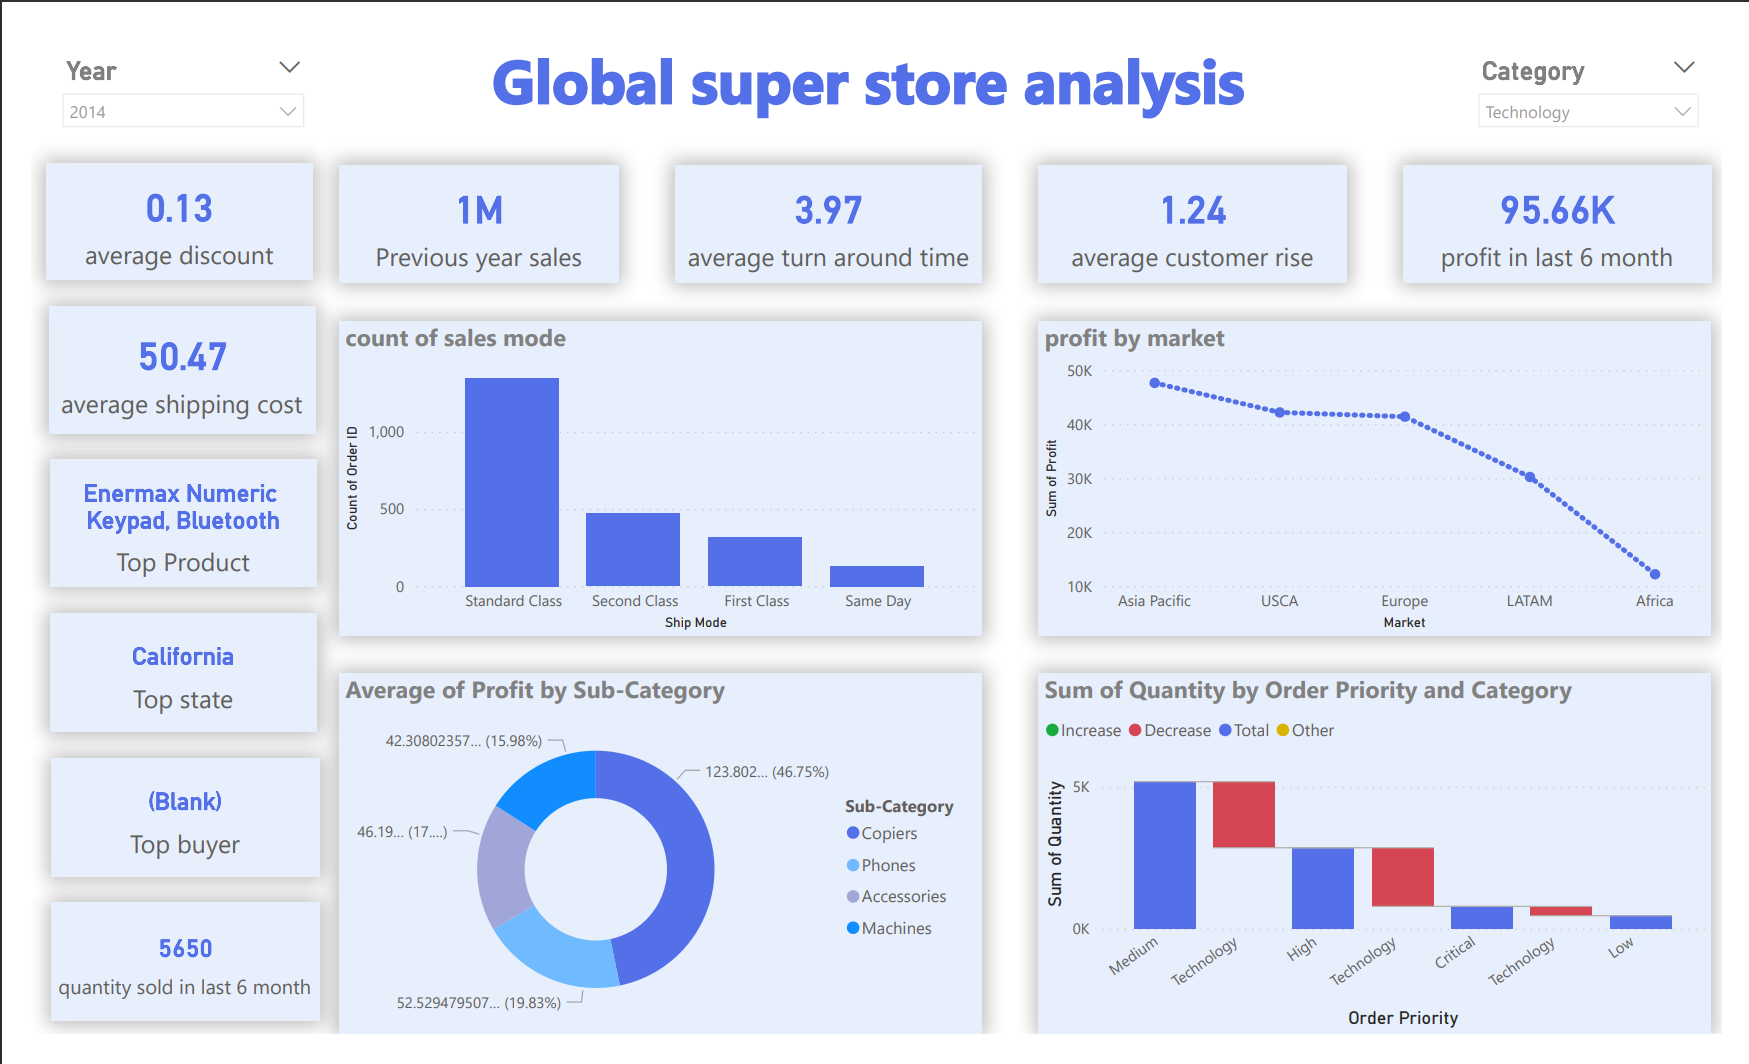

This screenshot's page, from the dashboard's own definition file:
{"tool":"powerbi","page":{"name":"ADVANCED","canvas":[1350,800],"ordinal":1},"visuals":[{"type":"card","fields":{"Values":["Orders.Previous year sales"]},"box":[245.8,105.9,222.8,93.7],"z":0,"group":"g1"},{"type":"slicer","fields":{"Values":["Orders.Order Date.Variation.Date Hierarchy.Year"]},"box":[14.9,13.6,213.2,74.7],"z":0},{"type":"card","fields":{"Values":["Orders.average turn around time"]},"box":[513.4,105.9,245.8,93.7],"z":1000,"group":"g1"},{"type":"textbox","box":[363.3,0,623.4,77.4],"z":1000},{"type":"card","fields":{"Values":["Orders.average customer rise"]},"box":[804,105.9,245.8,93.7],"z":2000,"group":"g1"},{"type":"card","fields":{"Values":["Orders.average discount"]},"box":[12.2,104.6,213.2,93.7],"z":2000},{"type":"card","fields":{"Values":["Orders.profit in last 6 month"]},"box":[1094.7,105.9,245.8,93.7],"z":3000,"group":"g1"},{"type":"group","id":"g1","title":"Group 1","box":[245.8,105.9,1094.7,93.7],"z":3000},{"type":"lineClusteredColumnComboChart","title":"count of sales mode","fields":{"Category":["Orders.Ship Mode"],"Y":["Count(Orders.Order ID)"]},"box":[245.8,230.9,513.4,251.3],"z":4000},{"type":"lineChart","title":"profit by market","fields":{"Category":["Orders.Market"],"Y":["Sum(Orders.Profit)"]},"box":[804.1,230.9,536.5,251.3],"z":5000},{"type":"slicer","fields":{"Values":["Orders.Category"]},"box":[1145,13.6,195.6,74.7],"z":6000},{"type":"card","fields":{"Values":["Orders.average shipping cost"]},"box":[13.6,218.9,213.2,101.9],"z":7000},{"type":"card","fields":{"Values":["Orders.Top Product"]},"box":[14.9,341.5,213.2,101.9],"z":8000},{"type":"card","fields":{"Values":["Orders.Top customer"]},"box":[14.9,464,213.2,95.1],"z":9000},{"type":"donutChart","fields":{"Category":["Orders.Sub-Category"],"Y":["Avg(Orders.Profit)"]},"box":[245.8,512.1,513.4,278.4],"z":10000},{"type":"card","fields":{"Values":["Orders.Top buyer"]},"box":[16.3,579.7,213.2,95.1],"z":11000},{"type":"waterfallChart","fields":{"Category":["Orders.Order Priority"],"Breakdown":["Orders.Category"],"Y":["Sum(Orders.Sales)"]},"box":[804.1,512.1,536.5,278.4],"z":12000},{"type":"card","fields":{"Values":["Orders.q sold in last 6 month"]},"box":[16.3,695.4,213.2,95.1],"z":13000}]}

Visuals, with their boxes in screenshot pixels (x1, y1, x2, y2), scaled from the page's 1350x800 canvas onto the 1749x1064 screenshot:
card - Orders.Previous year sales: <region>318, 141, 607, 265</region>
slicer - Orders.Order Date.Variation.Date Hierarchy.Year: <region>19, 18, 296, 117</region>
card - Orders.average turn around time: <region>665, 141, 984, 265</region>
textbox: <region>471, 0, 1278, 103</region>
card - Orders.average customer rise: <region>1042, 141, 1360, 265</region>
card - Orders.average discount: <region>16, 139, 292, 264</region>
card - Orders.profit in last 6 month: <region>1418, 141, 1737, 265</region>
"Group 1" group: <region>318, 141, 1737, 265</region>
"count of sales mode" lineClusteredColumnComboChart: <region>318, 307, 984, 641</region>
"profit by market" lineChart: <region>1042, 307, 1737, 641</region>
slicer - Orders.Category: <region>1483, 18, 1737, 117</region>
card - Orders.average shipping cost: <region>18, 291, 294, 427</region>
card - Orders.Top Product: <region>19, 454, 296, 590</region>
card - Orders.Top customer: <region>19, 617, 296, 744</region>
donutChart - Orders.Sub-Category x Avg(Orders.Profit): <region>318, 681, 984, 1051</region>
card - Orders.Top buyer: <region>21, 771, 297, 897</region>
waterfallChart - Orders.Order Priority x Orders.Category: <region>1042, 681, 1737, 1051</region>
card - Orders.q sold in last 6 month: <region>21, 925, 297, 1051</region>
